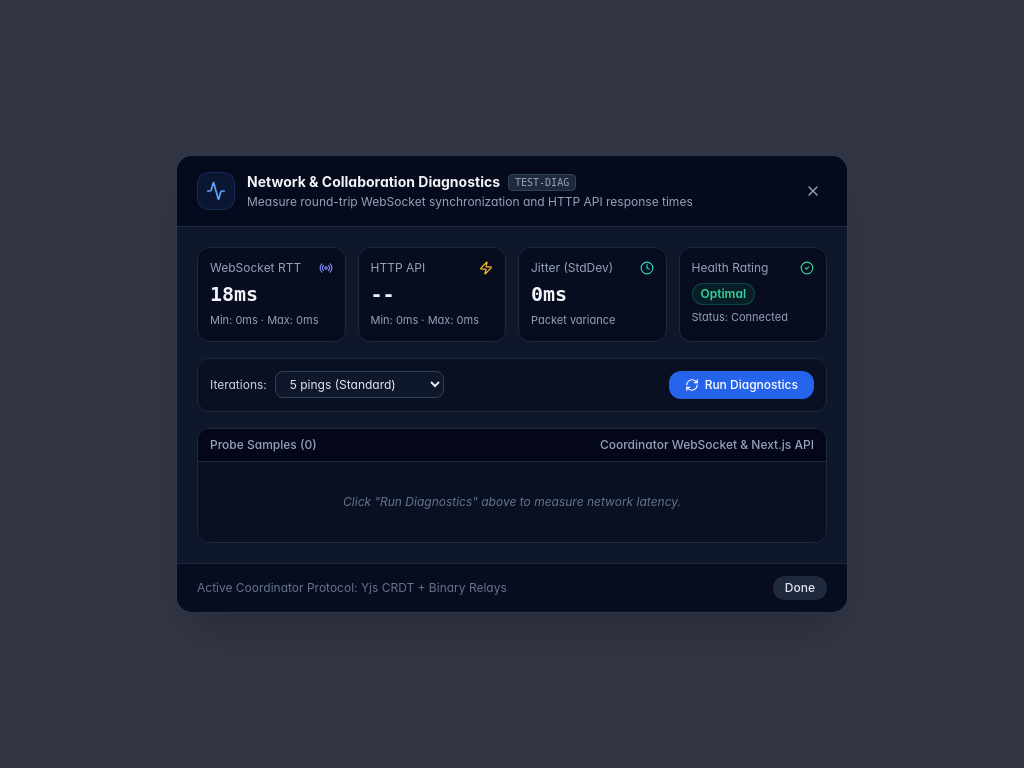
Test: NetworkDiagnosticsModal Component › runs diagnostic tests, populates history table, and computes statistics
Change iterations to 3
Select "3 pings" in the dropdown with test id "iterations-select" at {"x": 359, "y": 385}, box [275,371,444,398]
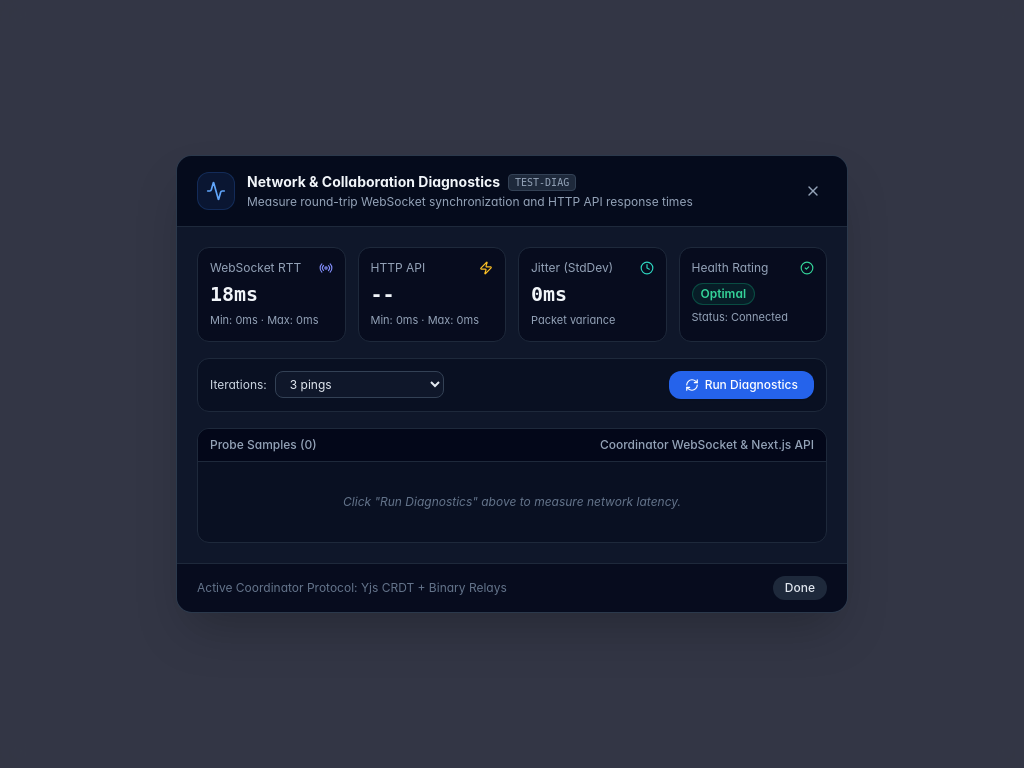
Click Run Diagnostics
Click the button with test id "run-diagnostics-btn".
click(741, 385)  # box [669,371,814,399]
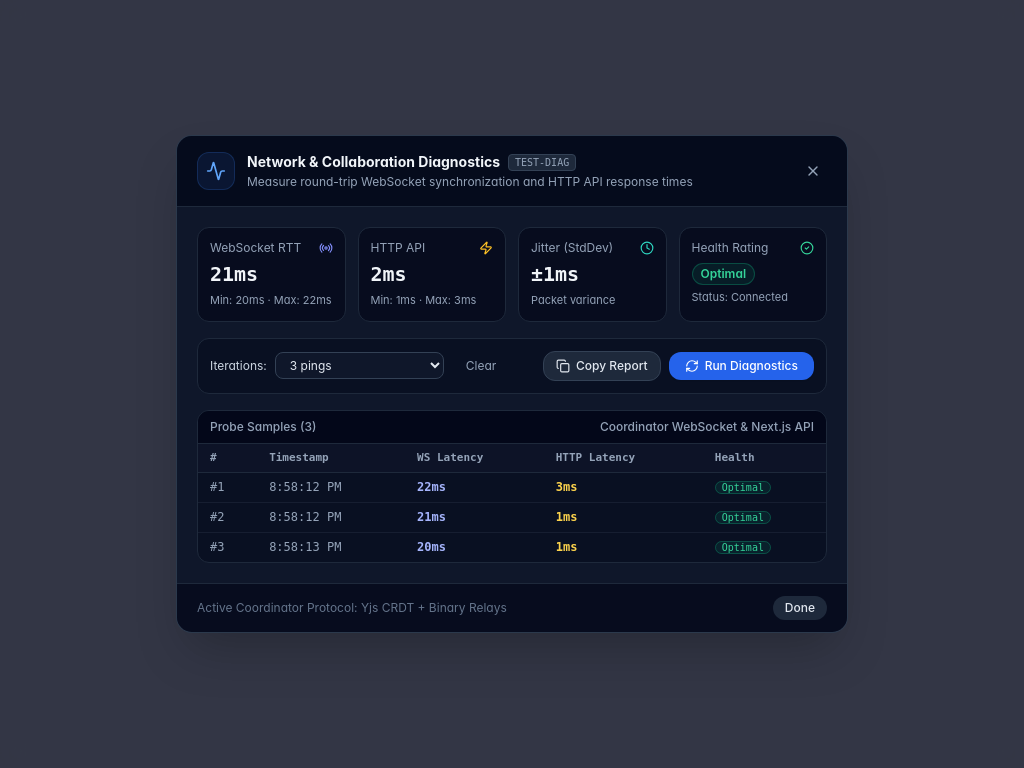
Now the text "Probe Samples (3)" is shown, box [210,419,316,435]
Now the text "#1" is shown, box [198,472,257,502]
Now the text "#2" is shown, box [198,502,257,532]
Clear diagnostics
Click the button with test id "clear-diagnostics-btn".
click(481, 366)  # box [456,354,506,378]
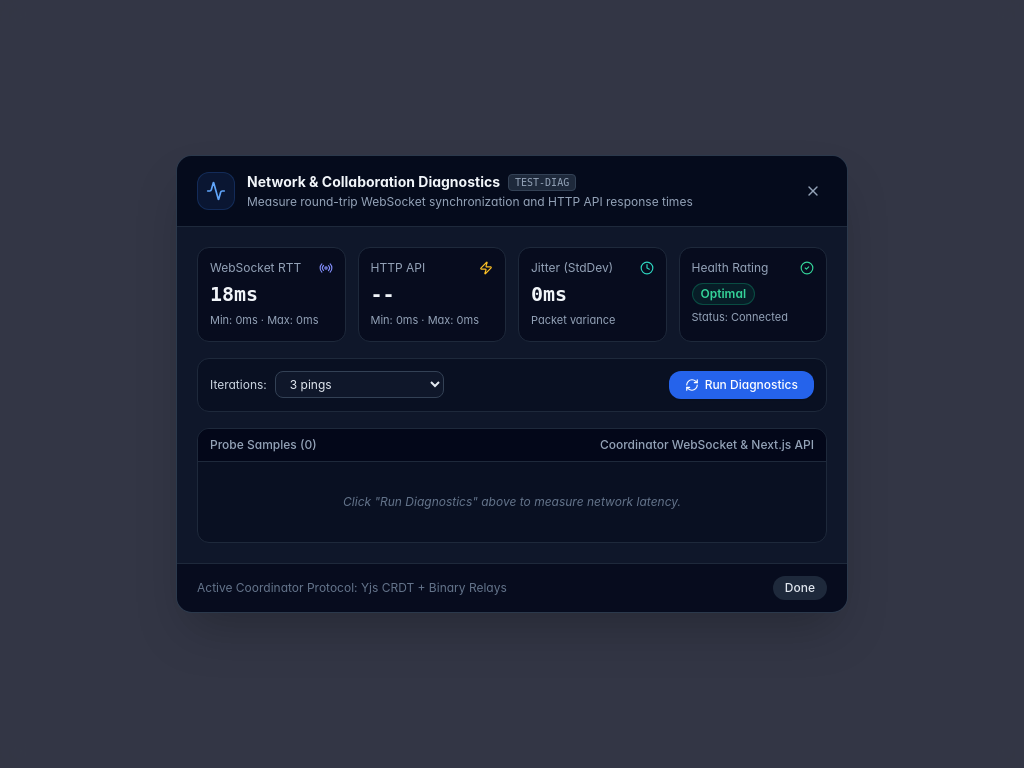
Now the text "Probe Samples (0)" is shown, box [210,437,317,453]
